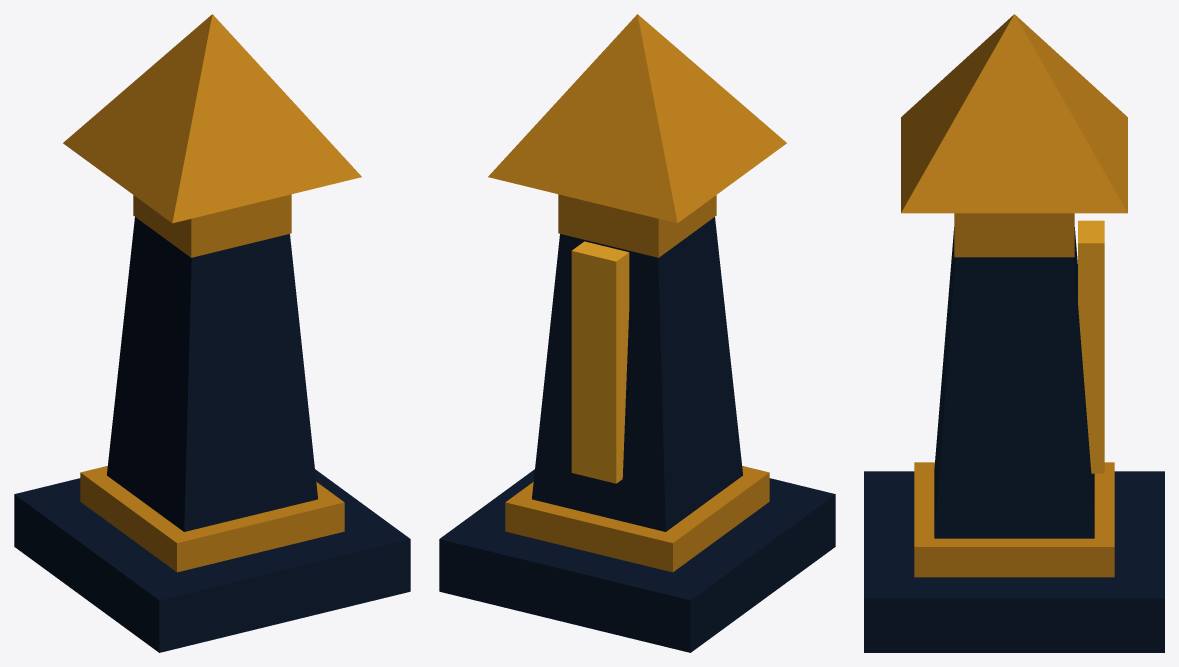
Rendered from MOD_WorldMap_MarkerPack.obj.
3 renders of one model, left to right at view 1: azimuth 30°, elevation 25°; view 2: azimuth 150°, elevation 25°; view 3: azimuth 270°, elevation 25°, orthographic. The views are drawn at different scales.
Parts seen in each view (by area): view 1: CityBeacon_Tower, MissionMarker_Base, CityBeacon_Crown, MissionMarker_GoldRing, RoutePylon_Cap; view 2: CityBeacon_Tower, MissionMarker_Base, CityBeacon_Crown, CityBeacon_Core, MissionMarker_GoldRing, RoutePylon_Cap; view 3: CityBeacon_Tower, CityBeacon_Crown, MissionMarker_Base, MissionMarker_GoldRing, CityBeacon_Core, RoutePylon_Cap.
Part boxes in pixels (x1,y1,x2,y2): CityBeacon_Tower: (107,217,317,531); MissionMarker_Base: (14,469,410,652); CityBeacon_Crown: (63,14,361,223); MissionMarker_GoldRing: (80,465,344,572); RoutePylon_Cap: (133,194,291,257); CityBeacon_Tower: (532,217,742,531); MissionMarker_Base: (439,469,835,652); CityBeacon_Crown: (488,14,786,223); CityBeacon_Core: (571,241,629,483); MissionMarker_GoldRing: (505,465,769,572); RoutePylon_Cap: (558,194,716,257); CityBeacon_Tower: (934,227,1094,538); CityBeacon_Crown: (901,14,1127,213); MissionMarker_Base: (864,471,1164,652); MissionMarker_GoldRing: (914,462,1114,577); CityBeacon_Core: (1078,220,1104,473); RoutePylon_Cap: (954,213,1074,257).
Size of the model in its own units: 0.9 by 1.9 by 0.9.
